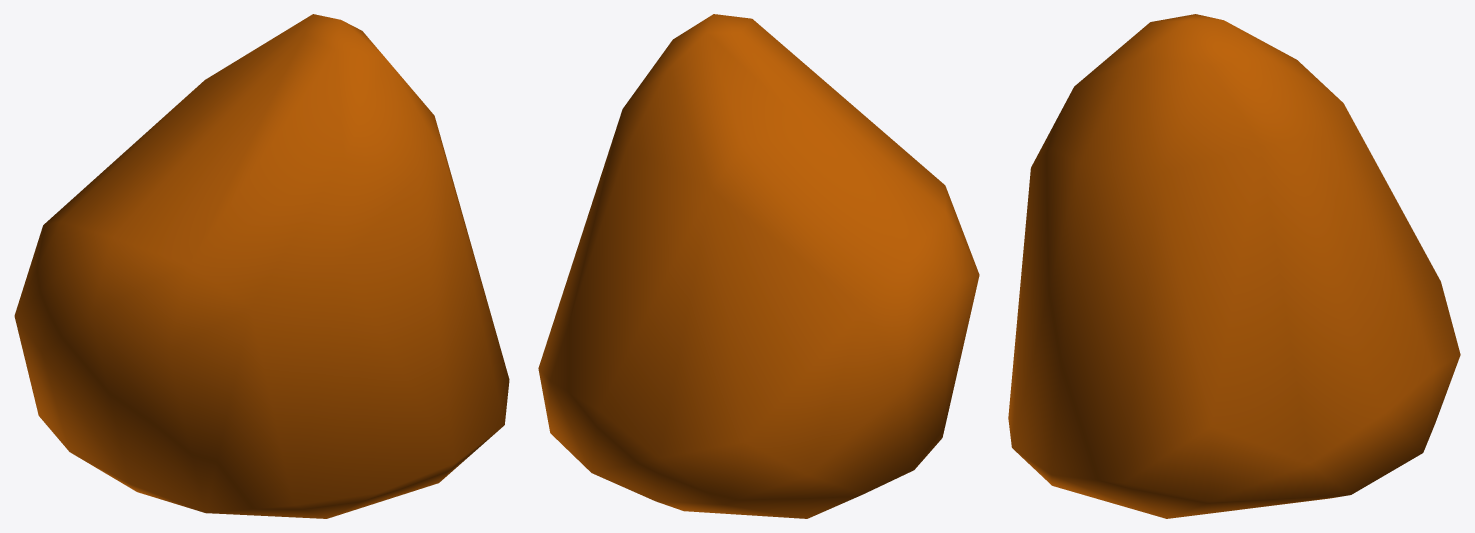
File: ThyroidGland_Puzzle.fbx
The picture shows the model from 3 angles, left to right: view 1: azimuth 30°, elevation 25°; view 2: azimuth 150°, elevation 25°; view 3: azimuth 270°, elevation 25°; orthographic projection. The views are drawn at different scales.
Visible parts, largest first — view 1: Thyroid_gland; view 2: Thyroid_gland; view 3: Thyroid_gland.
Boxes of the visible parts, x1,y1,x2,y2 form: Thyroid_gland: (14,14,509,518); Thyroid_gland: (538,14,979,518); Thyroid_gland: (1008,14,1460,518).
Size of the model in its own units: 0.9018 by 0.9419 by 0.8159.
